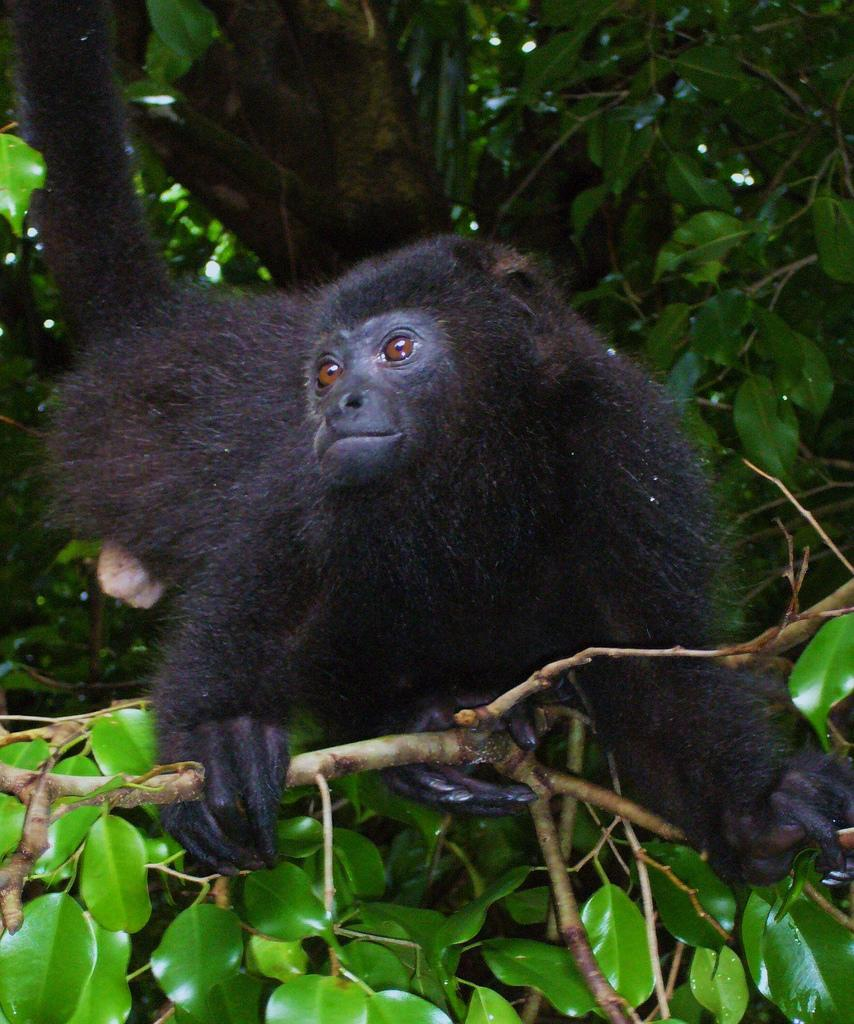monkey: (14, 0, 854, 906)
